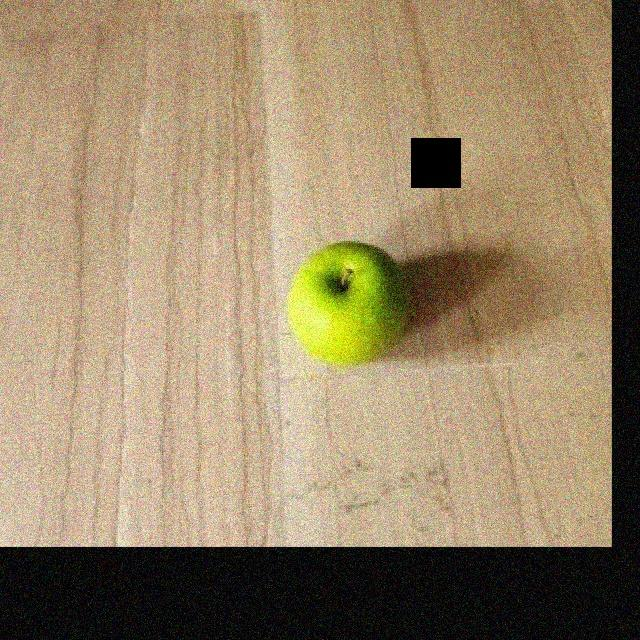green apple: (281, 233, 415, 373)
